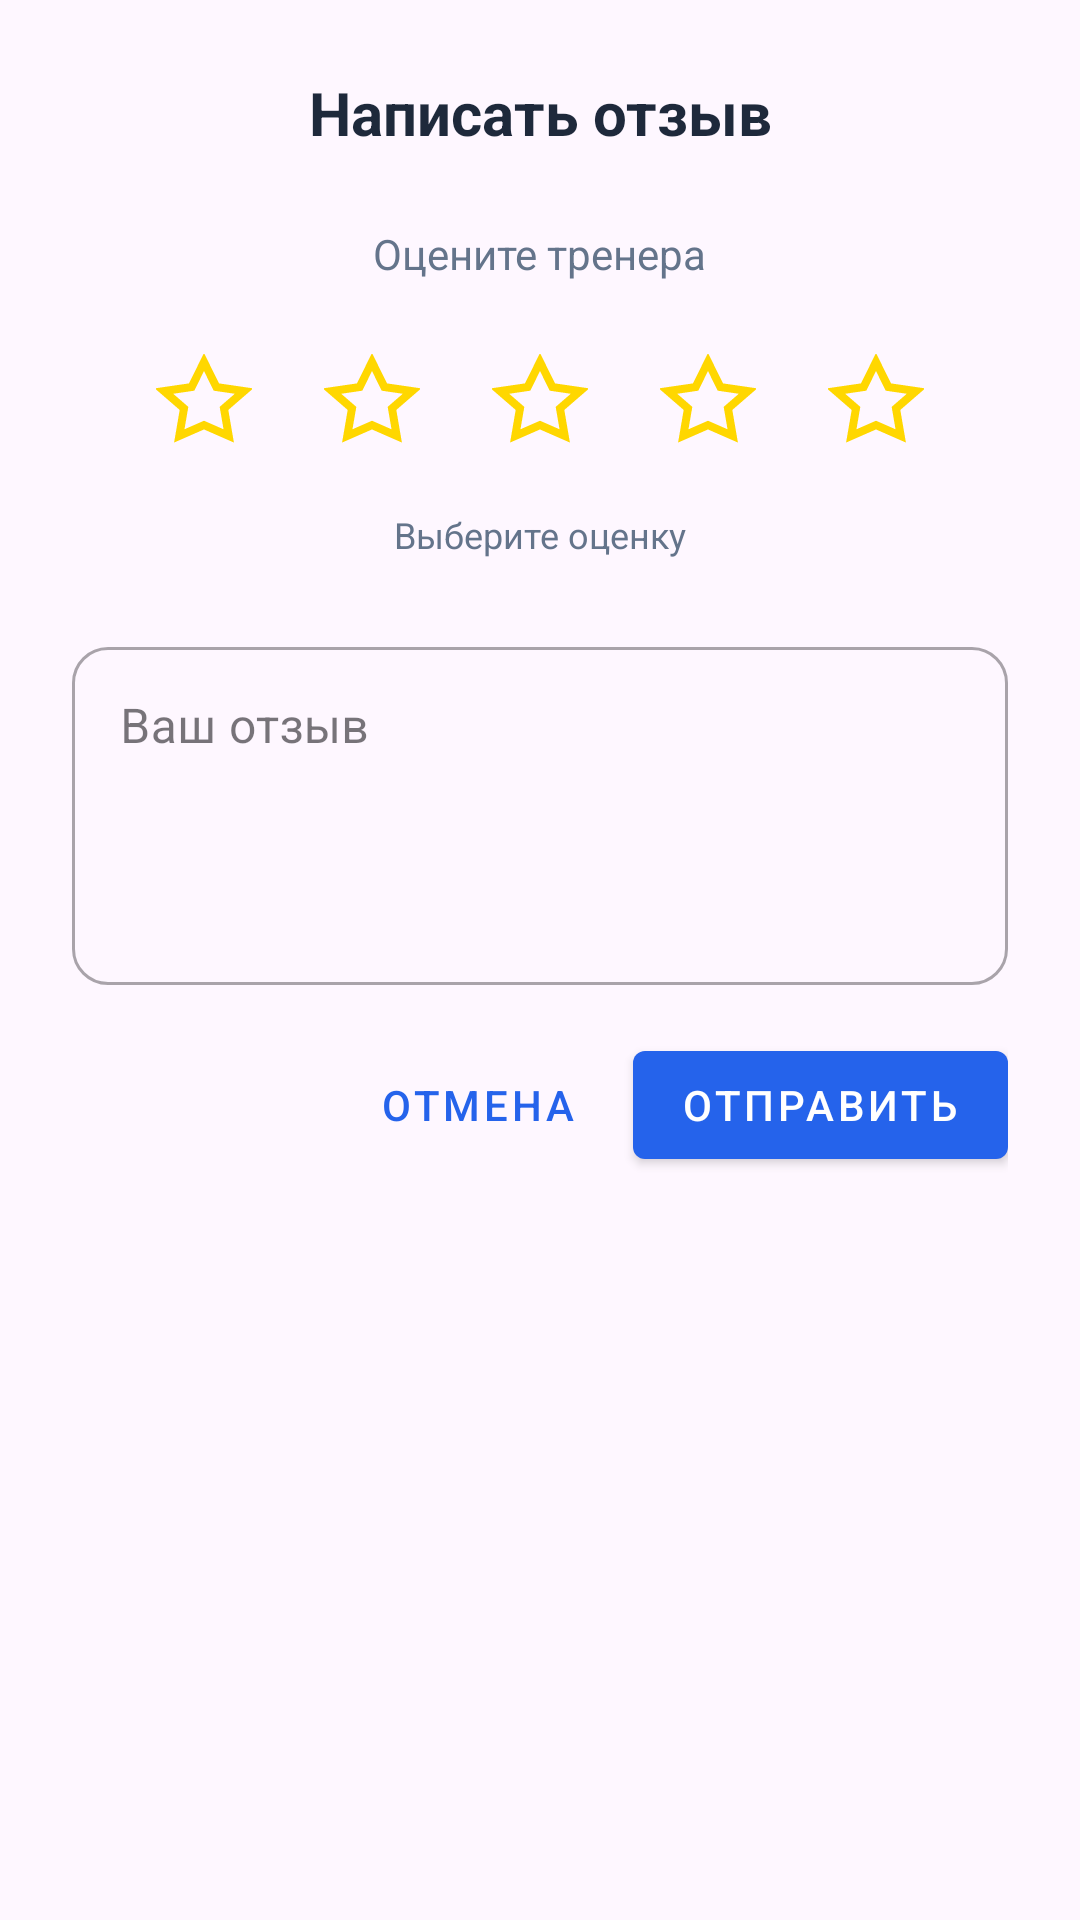

Icon bounding boxes for this 1080*1920 phone screenshot, format bbox=[x1, y1, x2, y2]:
1 звезда: bbox=[156, 354, 252, 443]
